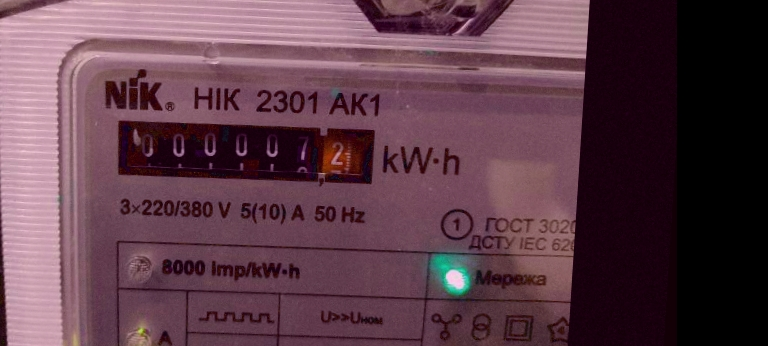0: (136, 129, 155, 157), (231, 129, 249, 157), (200, 128, 217, 157), (169, 129, 186, 157), (263, 130, 279, 159)
2: (327, 139, 345, 166)
7: (293, 131, 310, 162)
screen: (102, 106, 386, 196)
